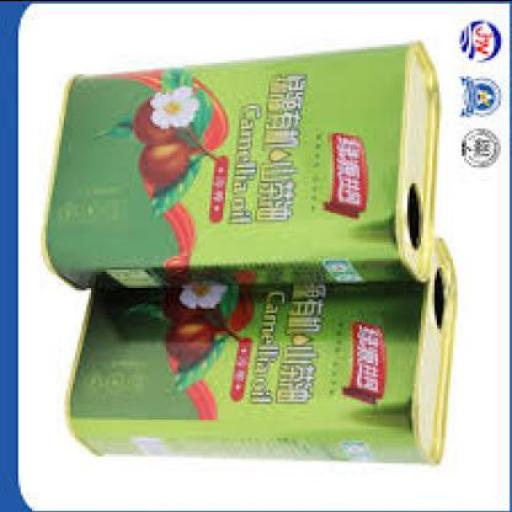metal: (47, 38, 444, 294), (68, 235, 460, 462)
